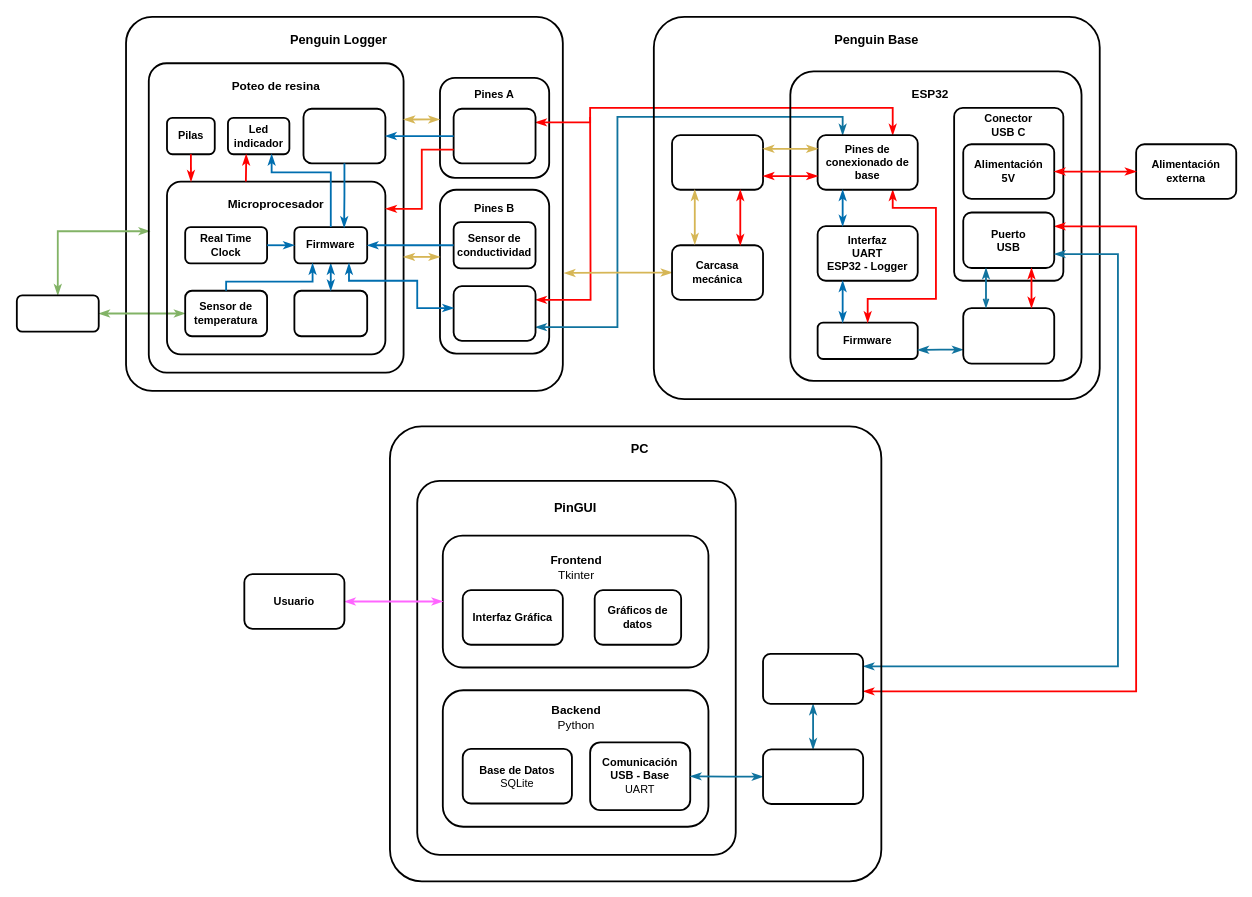
The diagram is 1252 pixels wide and 897 high, and some of its shapes have lost their labels. The centre of each missing label's shape, as x and y in pixels:
Ambiente: point (57, 313)
Circuito de generación de flanco y LEDs: point (717, 162)
Conversor UART - USB: point (1008, 335)
Interfaz de alimentación externa: point (494, 135)
Interfaz de comunicación serie: point (494, 313)
Memoria FRAM: point (330, 313)
Sensor de alimentación externa: point (344, 135)
USB Port: point (813, 678)
USB to UART VCP Driver CP210x: point (813, 776)
